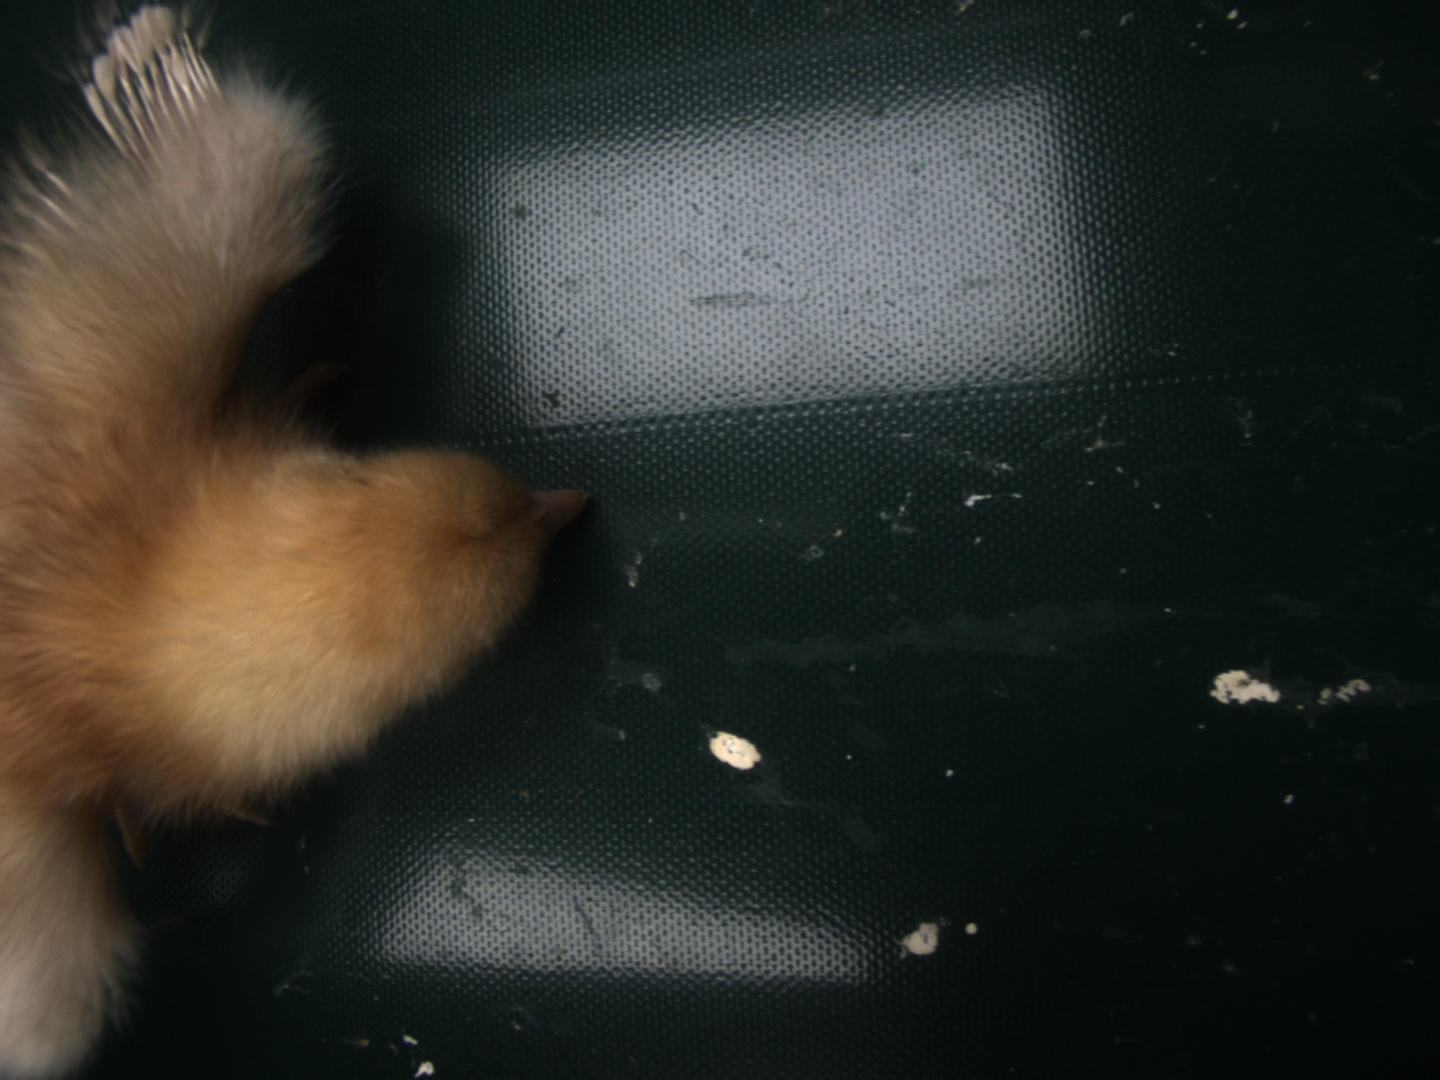female: (78, 3, 225, 182)
